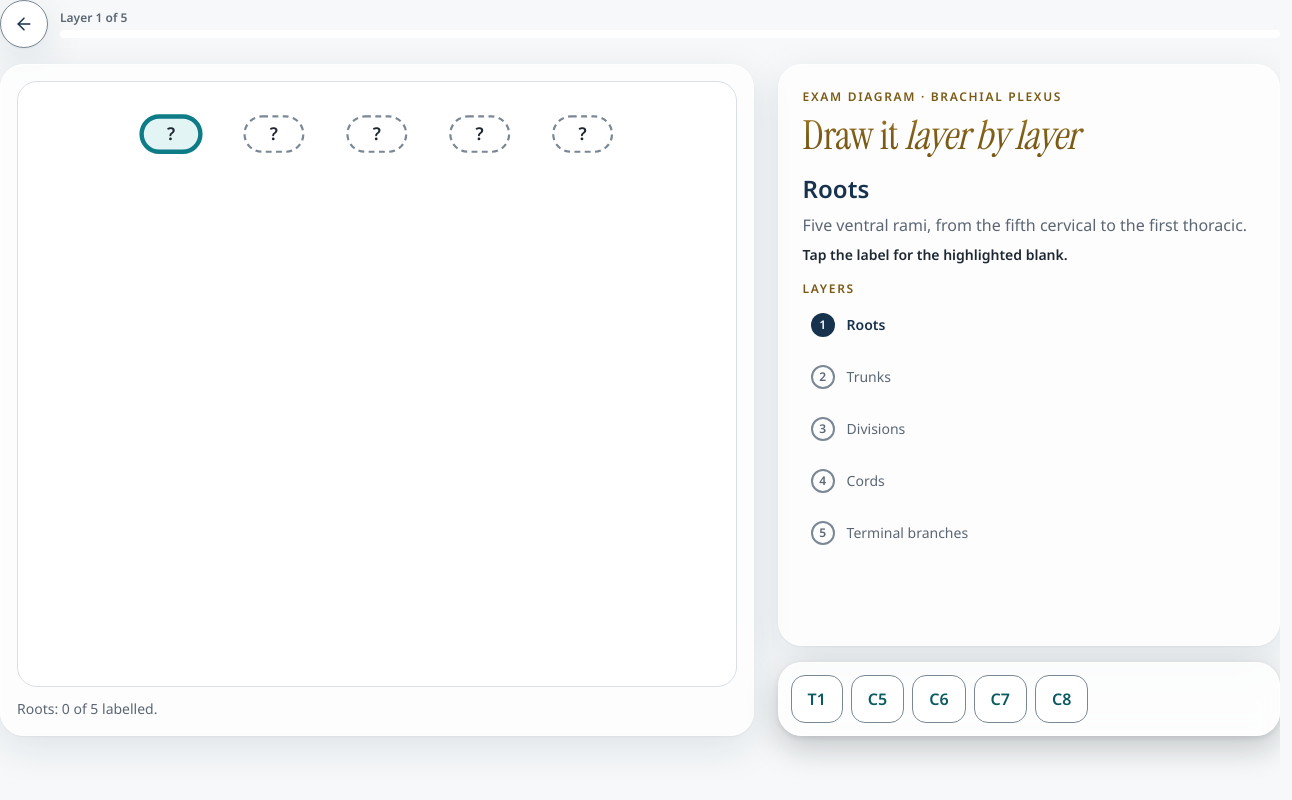
Test case: DrillView › shakes off a wrong label and explains
The image size is (1292, 800).
Click the button "T1".
click(817, 699)  # box [791, 675, 843, 723]
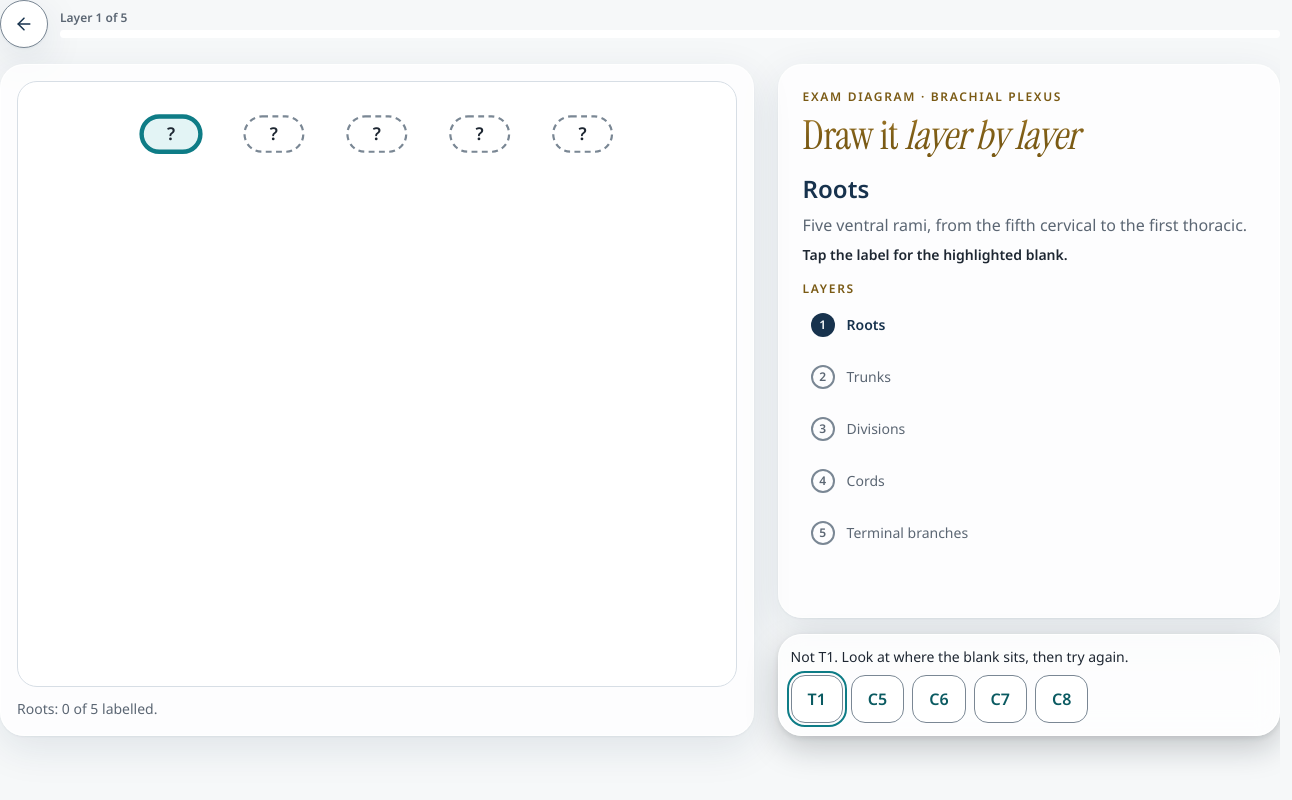
Now the message shows "Not T1.", box [791, 647, 1128, 666]
